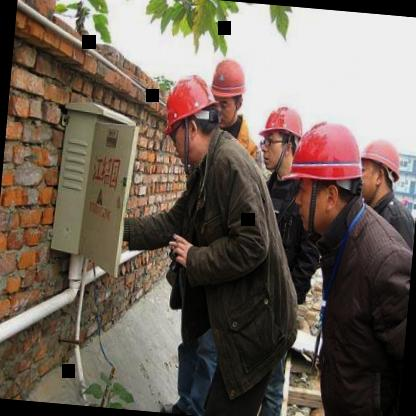helmet: (286, 112, 368, 237), (157, 62, 234, 175), (254, 94, 314, 183), (349, 131, 409, 215), (205, 47, 253, 130)
